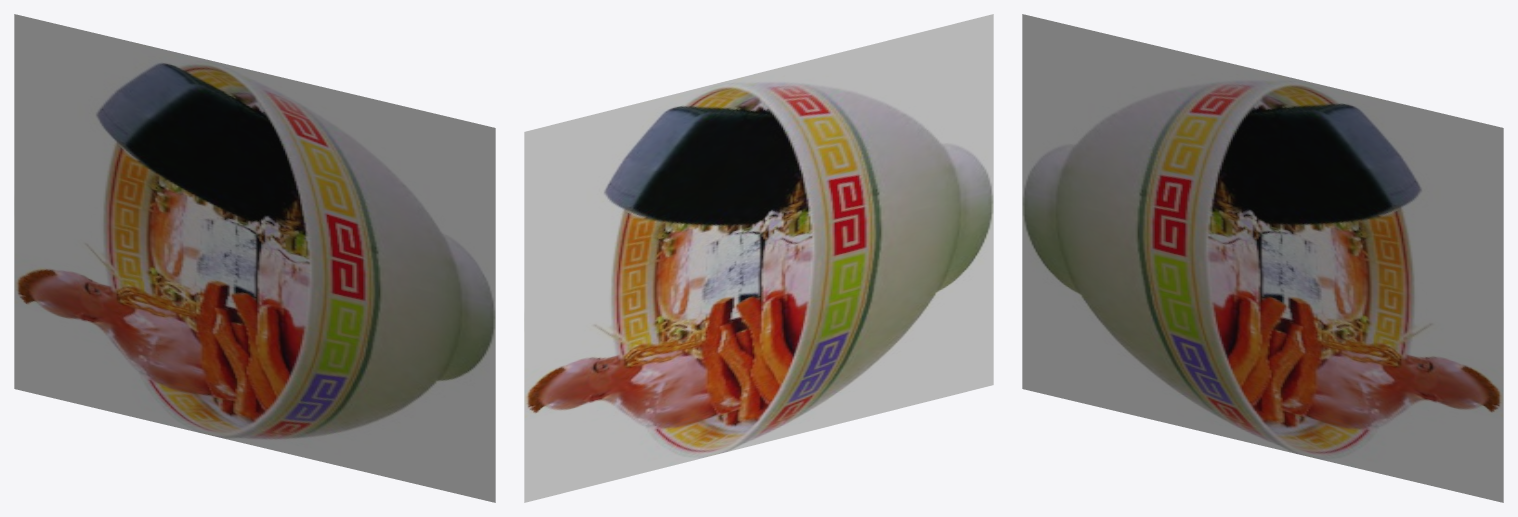
The picture shows the model from 3 angles, left to right: view 1: azimuth 90°, elevation 25°; view 2: azimuth 150°, elevation 25°; view 3: azimuth 270°, elevation 25°; orthographic projection.
Parts seen in each view (by area): view 1: Plane.012; view 2: Plane.012; view 3: Plane.012.
Boxes of the visible parts, x1,y1,x2,y2 form: Plane.012: (14,14,495,502); Plane.012: (524,14,993,502); Plane.012: (1022,14,1503,502).
Bounding box in the file's own units: 1.96 × 3 × 3.49.
1 material, 1 textured.
